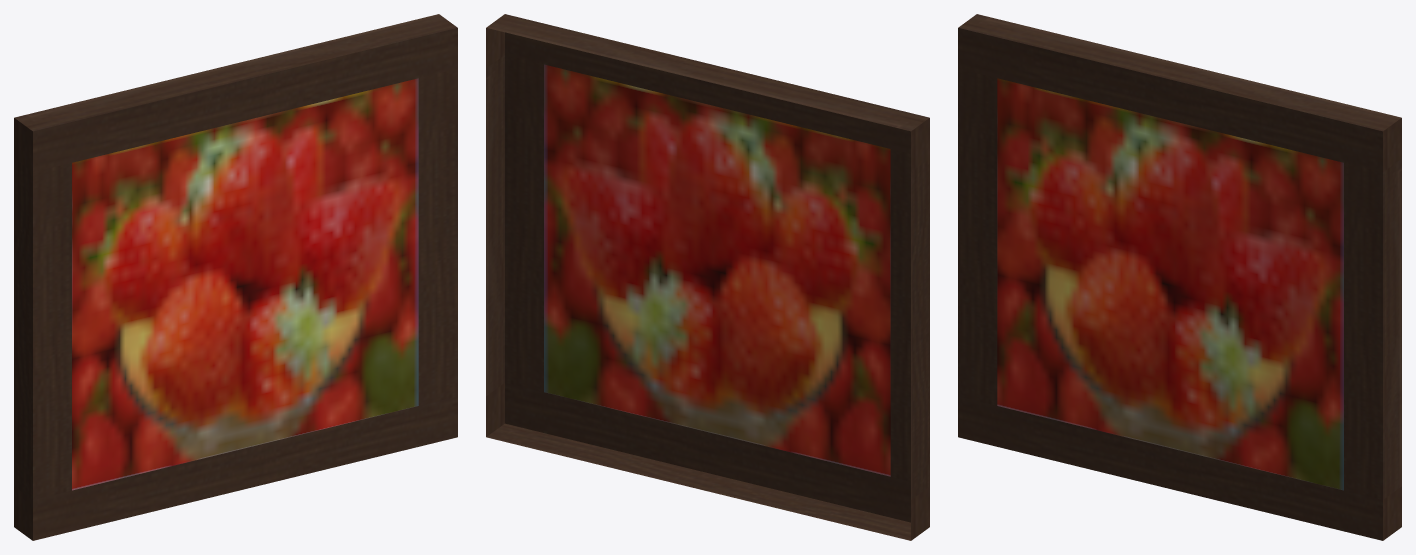
The model's file is Paint_10.fbx.
3 views of the same model, side by side, from view 1: azimuth 30°, elevation 25°; view 2: azimuth 150°, elevation 25°; view 3: azimuth 330°, elevation 25° (orthographic).
Visible parts, largest first — view 1: polySurface924; view 2: polySurface924; view 3: polySurface924.
Boxes of the visible parts, x1,y1,x2,y2 form: polySurface924: [14, 14, 457, 540]; polySurface924: [486, 14, 929, 540]; polySurface924: [958, 14, 1401, 540].
Bounding box in the file's own units: 1.04 × 0.9608 × 0.08.
